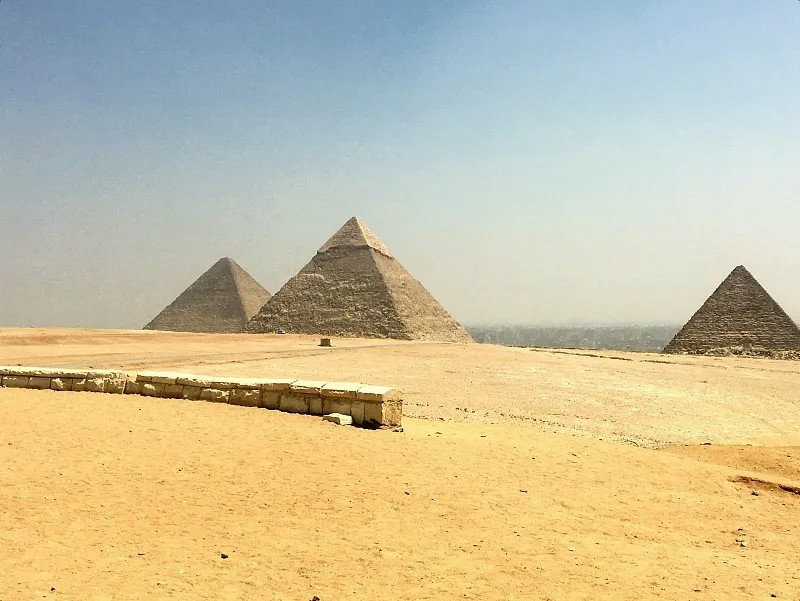Pyramid: (239, 217, 476, 345), (663, 266, 800, 360), (144, 258, 273, 334)
